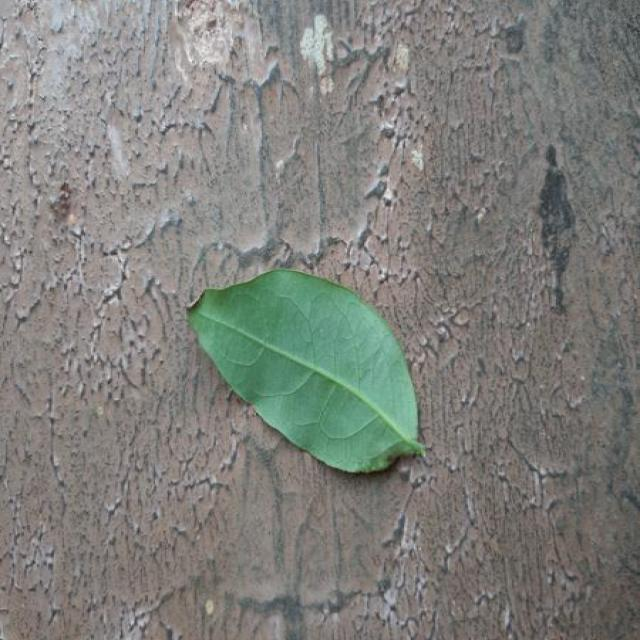amla: (188, 270, 425, 472)
